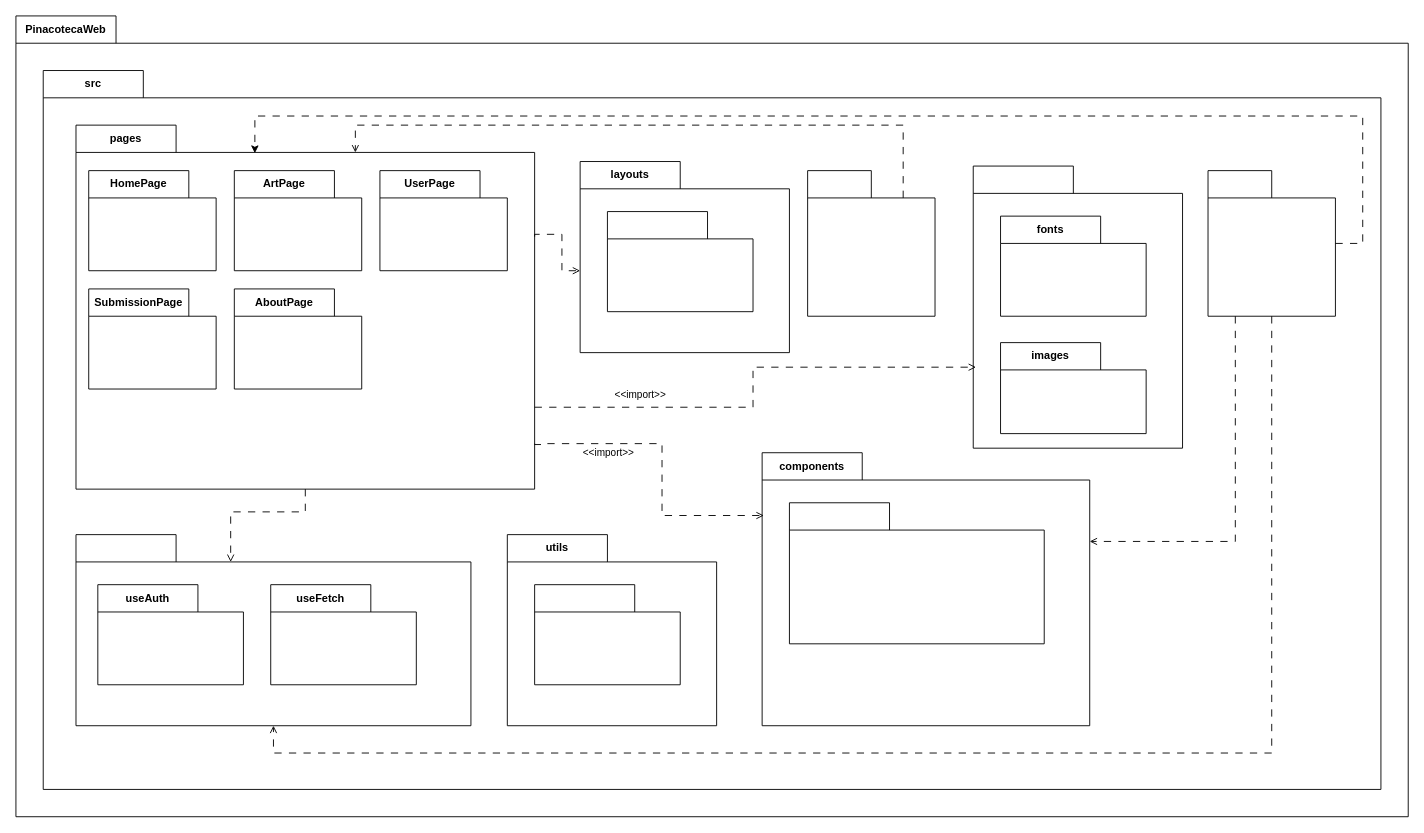
Some shapes in this 1424 by 833 pixel diagram are drawn without their labels. The shapes that lost their labels are listed below. From the top down, each one's box as (x1, y1, x2, y2) in pixels, then its label:
(607, 211, 753, 312): MainLayout
(807, 170, 935, 316): routes
(1207, 170, 1335, 316): tests
(972, 165, 1183, 448): assets
(789, 502, 1044, 644): modal
(75, 534, 471, 726): hooks
(534, 584, 680, 685): validateEmail
